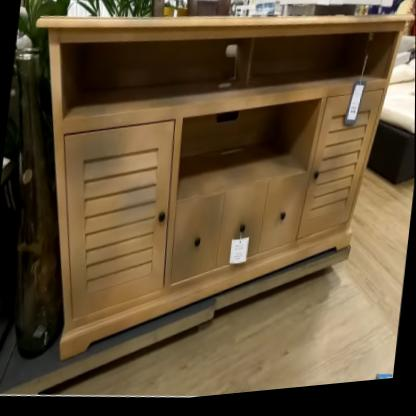Sideboard: (0, 0, 408, 400)
Wooden floor: (72, 176, 415, 401)
